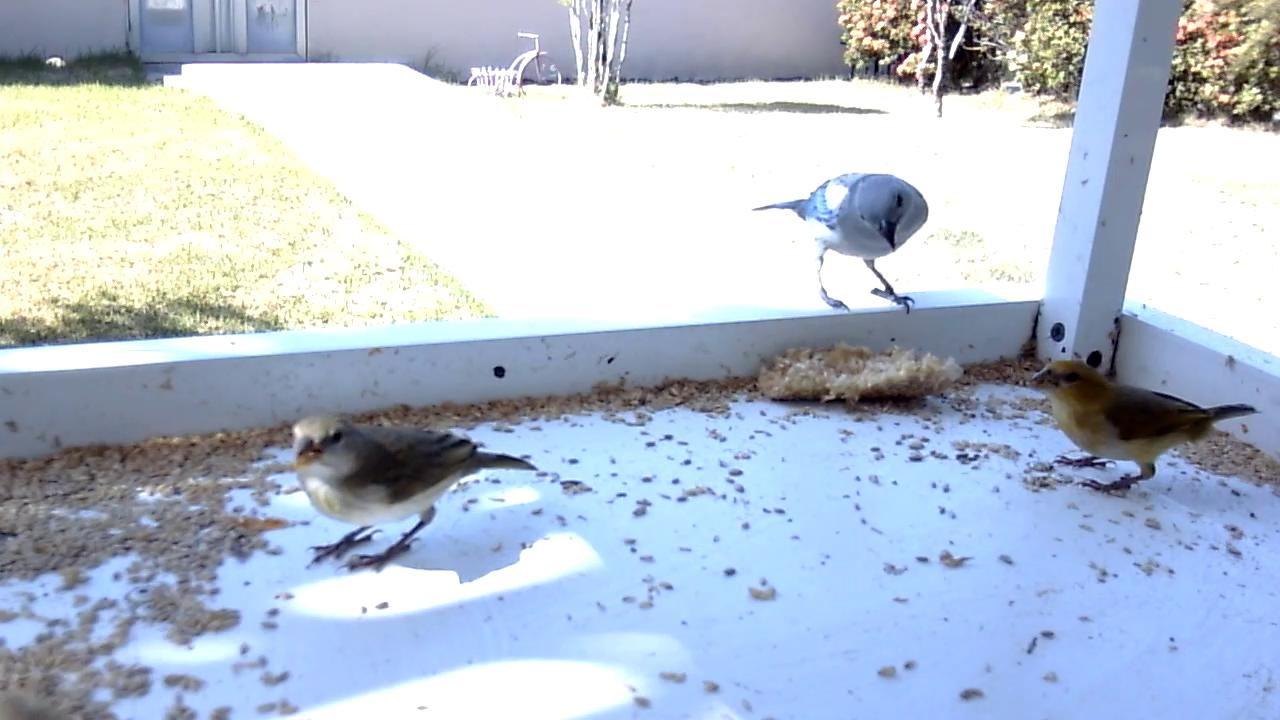canario_do_amazonas: (289, 411, 543, 574), (1029, 358, 1262, 501)
sanhaco_da_amazonia: (751, 165, 932, 322)
